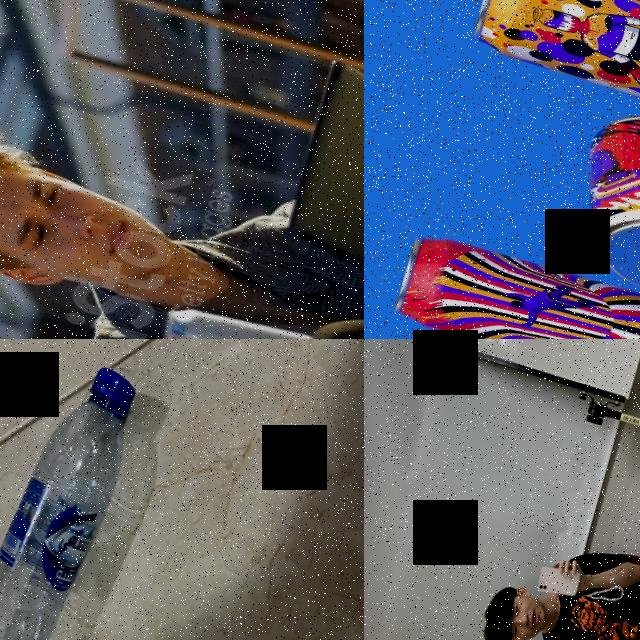bottle: (0, 339, 168, 640)
can: (389, 224, 640, 339), (467, 0, 640, 133), (555, 95, 640, 321), (151, 293, 339, 339)
